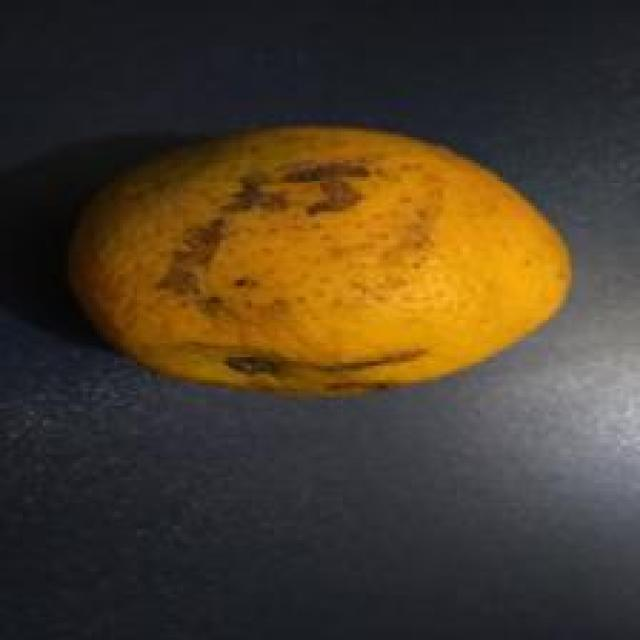overripe: (66, 121, 580, 400)
